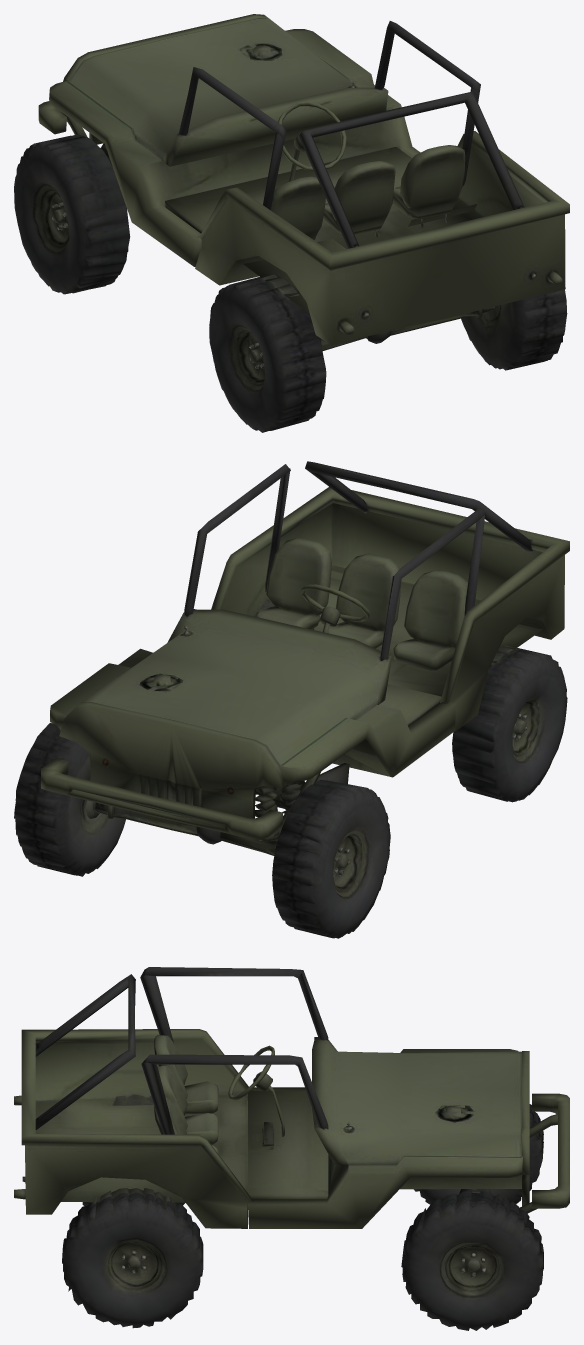
The model's file is jeep.glb.
3 renders of one model, top to bottom at view 1: azimuth 30°, elevation 25°; view 2: azimuth 150°, elevation 25°; view 3: azimuth 270°, elevation 25°, orthographic. The views are drawn at different scales.
Visible parts, largest first — view 1: body, wheel-left-front, wheel-left-rear, wheel-right-rear; view 2: body, wheel-left-front, wheel-left-rear, wheel-right-front; view 3: body, wheel-right-front, wheel-right-rear, wheel-left-front.
Boxes of the visible parts, left/top/right/bottom form: body: left=38, top=14, right=569, bottom=350; wheel-left-front: left=14, top=134, right=130, bottom=294; wheel-left-rear: left=209, top=274, right=326, bottom=432; wheel-right-rear: left=461, top=289, right=567, bottom=370; body: left=41, top=461, right=569, bottom=855; wheel-left-front: left=272, top=780, right=390, bottom=938; wheel-left-rear: left=452, top=645, right=567, bottom=802; wheel-right-front: left=14, top=723, right=125, bottom=876; body: left=14, top=967, right=569, bottom=1228; wheel-right-front: left=401, top=1190, right=543, bottom=1330; wheel-right-rear: left=62, top=1188, right=203, bottom=1328; wheel-left-front: left=414, top=1104, right=543, bottom=1204.
Bounding box in the file's own units: 2.39 × 2.11 × 4.09.
Materials: 1 (1 with a texture image).
